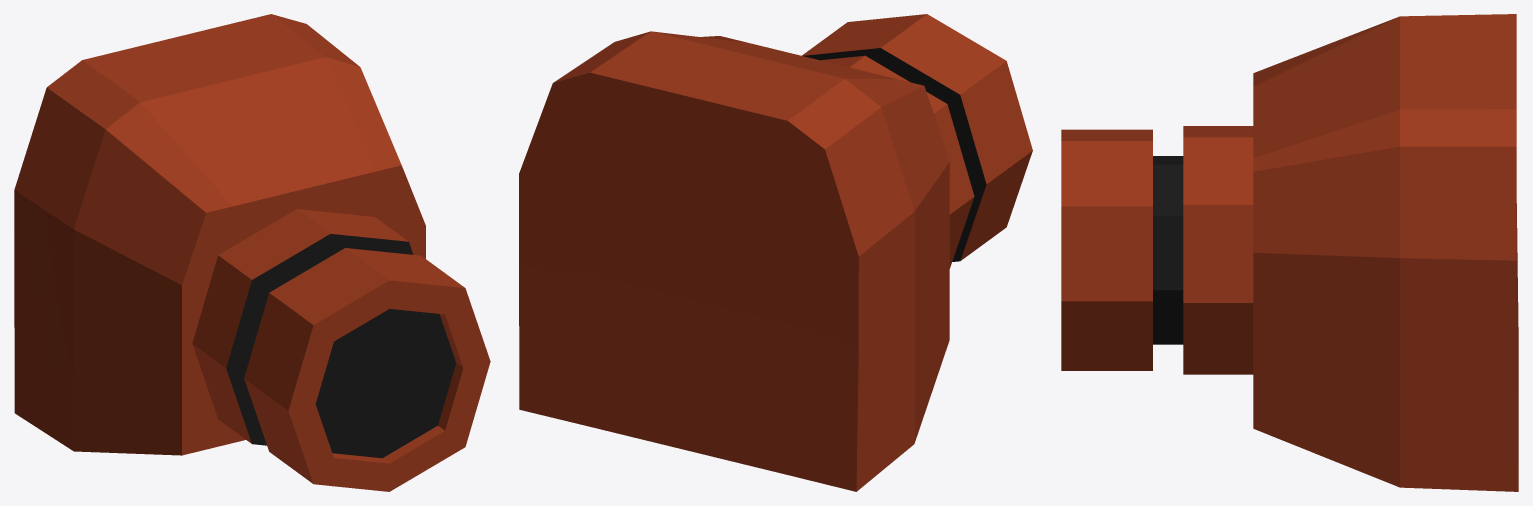
Rendered from kokpit_4.fbx.
3 views of the same model, side by side, from view 1: azimuth 30°, elevation 25°; view 2: azimuth 150°, elevation 25°; view 3: azimuth 270°, elevation 25° (orthographic). The views are drawn at different scales.
Visible parts, largest first — view 1: Cube.002; view 2: Cube.002; view 3: Cube.002.
Part boxes in pixels (x1=…): Cube.002: x1=14, y1=14, x2=490, y2=491; Cube.002: x1=519, y1=14, x2=1032, y2=491; Cube.002: x1=1061, y1=14, x2=1518, y2=491.
Bounding box in the file's own units: 268 × 267 × 317.
